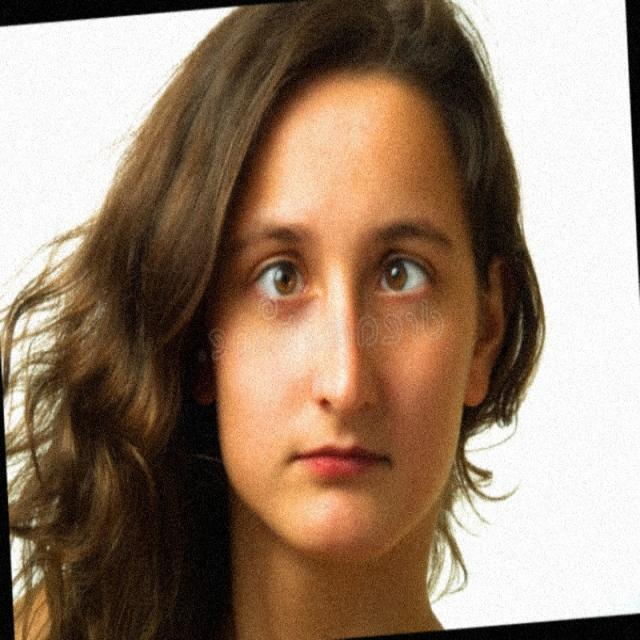Healthy-Eye: (248, 240, 312, 318)
Squint: (363, 229, 445, 315)
